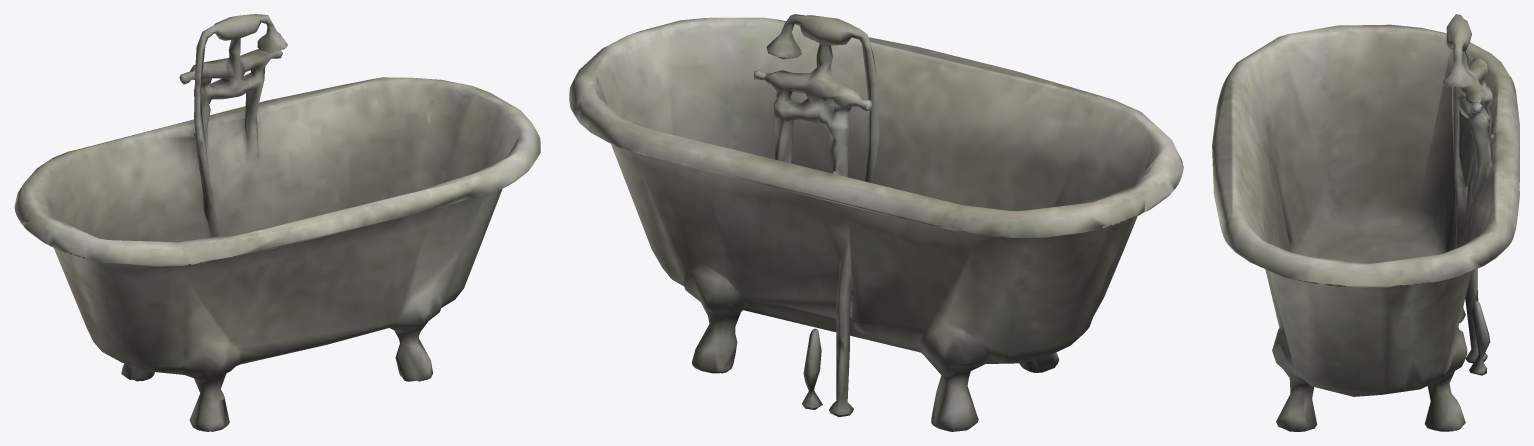
Rendered from ornate-white-painted-bathtub-v002.glb.
3 renders of one model, left to right at view 1: azimuth 30°, elevation 25°; view 2: azimuth 150°, elevation 25°; view 3: azimuth 270°, elevation 25°, orthographic. The views are drawn at different scales.
Visible parts, largest first — view 1: ornate-white-painted-bathtub; view 2: ornate-white-painted-bathtub; view 3: ornate-white-painted-bathtub.
Boxes of the visible parts, x1,y1,x2,y2 form: ornate-white-painted-bathtub: (14, 14, 540, 431); ornate-white-painted-bathtub: (569, 14, 1183, 431); ornate-white-painted-bathtub: (1212, 14, 1519, 431).
Size of the model in its own units: 0.9594 by 0.6186 by 0.4968.
1 material, 1 textured.
